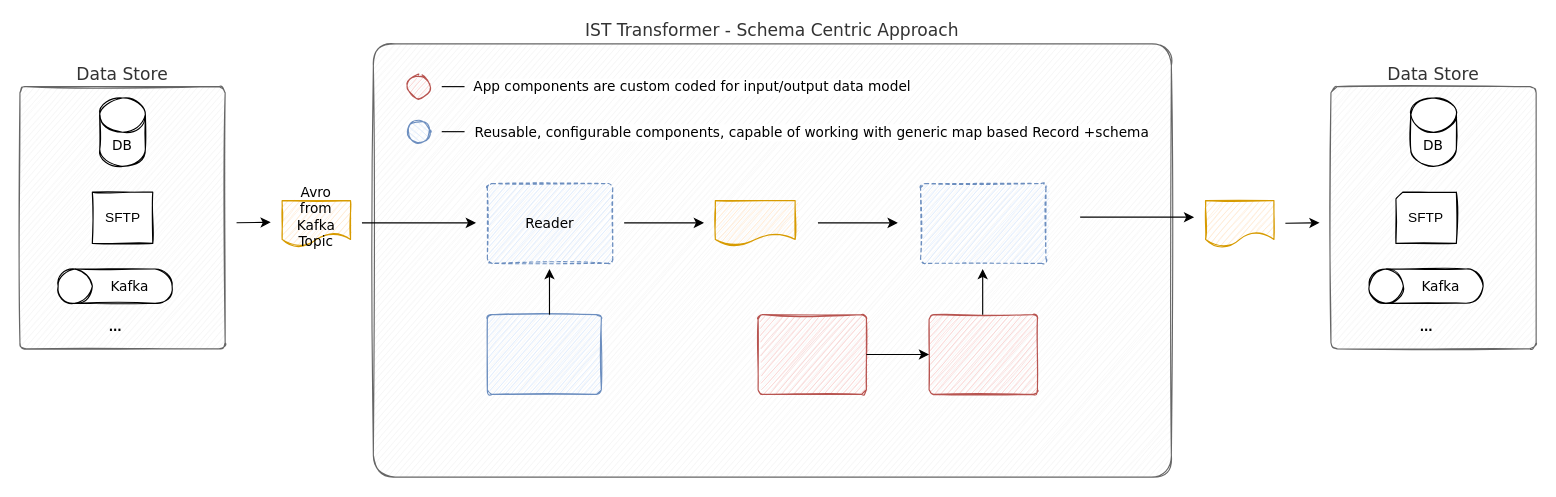
Image size: 1556x497. Some labels were removed from this diagram. Each missing label, with the centre of its shape:
"Avro Reader Impl" goes at (543,354).
"FPML" goes at (1239,222).
"FPML with Velocity Impl" goes at (982,354).
"Record map+schema" goes at (754,222).
"Velocity Templates, Config" goes at (811,354).
"Writer" goes at (982,222).
